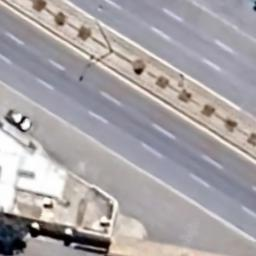pickup: (4, 104, 36, 136)
